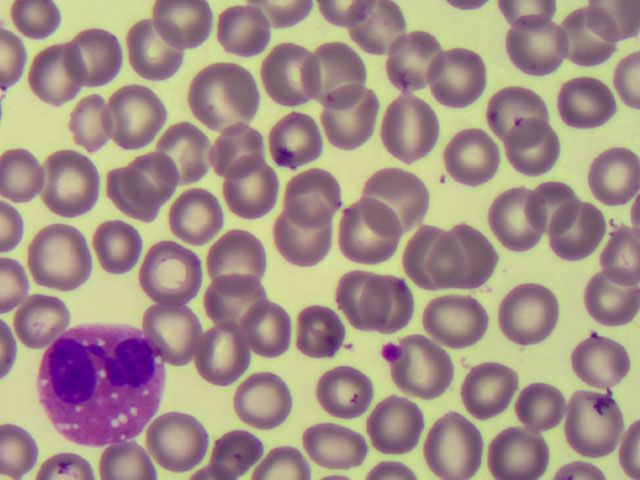Platelets: (379, 341, 395, 361)
RBC: (208, 422, 267, 480), (421, 422, 480, 480), (486, 422, 545, 480), (28, 46, 87, 103), (66, 30, 125, 87), (6, 1, 65, 58), (125, 25, 184, 82), (150, 3, 209, 60), (210, 5, 269, 62), (196, 70, 255, 127), (154, 127, 213, 184), (135, 147, 194, 204), (113, 167, 172, 224), (105, 88, 164, 145), (69, 93, 128, 150), (41, 154, 100, 211), (1, 146, 60, 203), (30, 227, 89, 284), (79, 220, 138, 277), (14, 285, 73, 342), (140, 246, 199, 303), (161, 184, 220, 241), (204, 227, 263, 284), (225, 161, 284, 218), (211, 116, 270, 173), (266, 110, 325, 167), (259, 48, 318, 105), (317, 40, 376, 97), (317, 82, 376, 139), (363, 163, 422, 220), (336, 200, 395, 257), (278, 159, 337, 216), (283, 215, 342, 272), (210, 269, 269, 326), (233, 303, 292, 360), (198, 325, 257, 382), (149, 307, 208, 364), (234, 371, 293, 428), (151, 407, 210, 464), (305, 416, 364, 473), (316, 358, 375, 415), (293, 303, 352, 360), (326, 266, 385, 323), (357, 272, 416, 329), (401, 227, 460, 284), (442, 226, 501, 283), (423, 291, 482, 348), (404, 334, 463, 391), (367, 389, 426, 446), (452, 362, 511, 419), (498, 377, 557, 434), (565, 398, 624, 455), (570, 336, 629, 393), (506, 284, 565, 341), (579, 272, 638, 329), (581, 230, 640, 287), (550, 205, 609, 262), (528, 176, 587, 233), (500, 192, 559, 249), (453, 131, 512, 188), (388, 102, 447, 159), (382, 33, 441, 90), (435, 50, 494, 107), (499, 85, 558, 142), (509, 113, 568, 170), (556, 76, 615, 133), (506, 21, 565, 78), (558, 10, 617, 67), (581, 141, 640, 198)
WBC: (44, 323, 156, 445)
